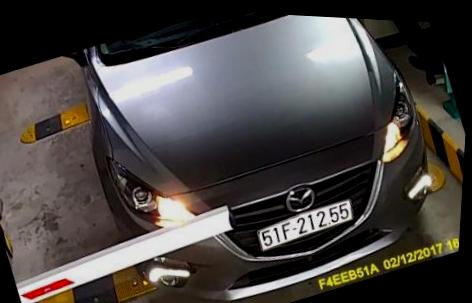License_Plate: (255, 195, 356, 261)
